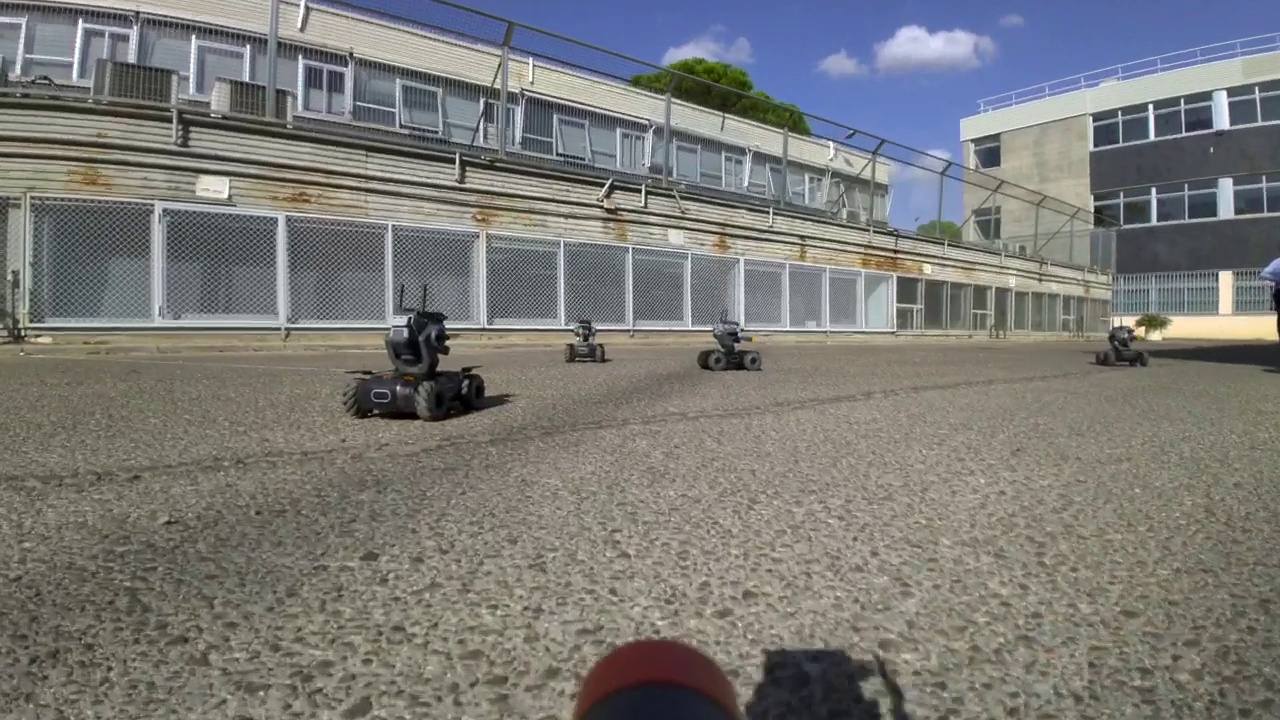robot: (342, 280, 488, 422), (695, 305, 764, 375), (1093, 314, 1149, 370), (562, 308, 607, 363)
